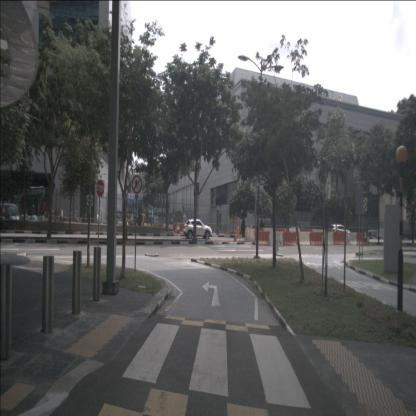movable_object-barrier: (254, 231, 270, 246), (270, 231, 284, 246), (310, 231, 324, 246), (284, 232, 297, 246), (332, 232, 346, 245), (296, 232, 310, 245), (244, 228, 256, 243), (358, 232, 369, 246), (346, 232, 357, 245), (323, 232, 333, 245), (178, 224, 186, 234), (172, 223, 178, 234)
vehicle-car: (183, 219, 212, 239), (0, 203, 21, 228), (328, 223, 351, 239)
